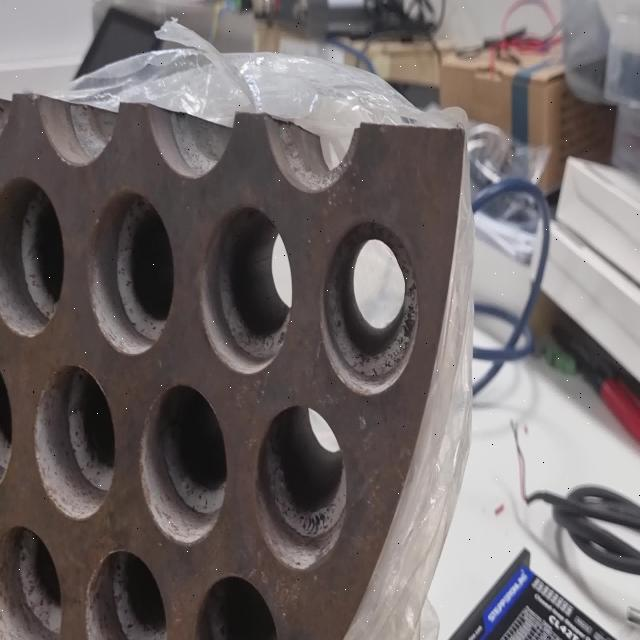Hole: (321, 217, 420, 395), (198, 204, 294, 376), (256, 402, 347, 570), (140, 382, 228, 546), (88, 189, 174, 356), (34, 365, 116, 521), (1, 175, 65, 338), (85, 546, 169, 640), (0, 523, 63, 639)
